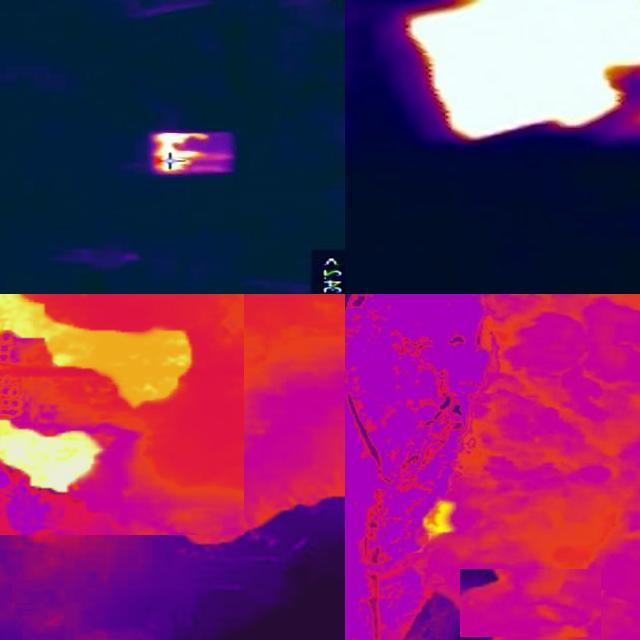fire: (1, 295, 196, 495), (403, 1, 640, 145), (148, 132, 235, 176), (421, 489, 464, 548)
